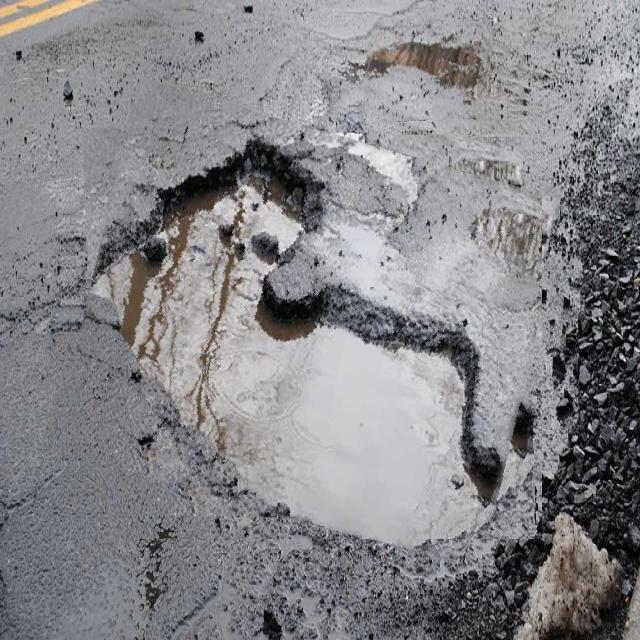Pothole: (61, 101, 542, 539), (365, 19, 493, 124)
